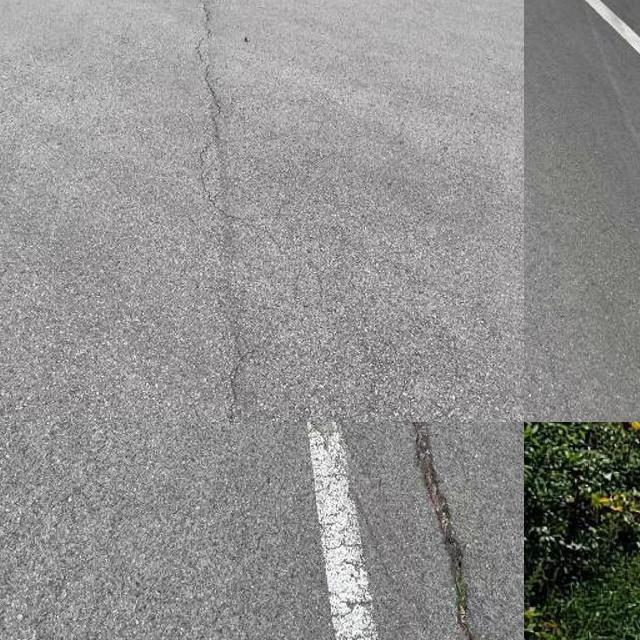Memanjang: (392, 422, 524, 640), (196, 0, 253, 422)
